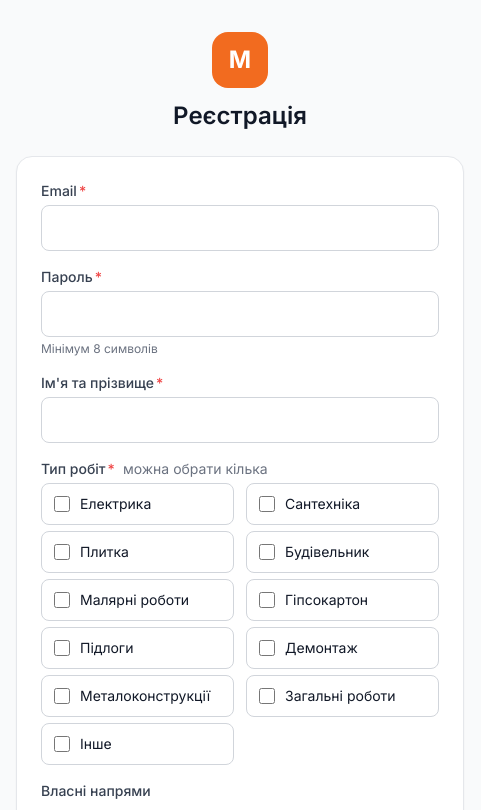
it: RegisterPage — custom trade › blocks submit when neither a system trade nor a custom trade is chosen
This screenshot has width=481, height=810.
In the field with id "email": (240, 228) [41,205,439,251], type "a@b.com"
In the password field labelled "Пароль* Мінімум 8 символів": (240, 314) [41,291,439,337], type "Sup3rPass!"
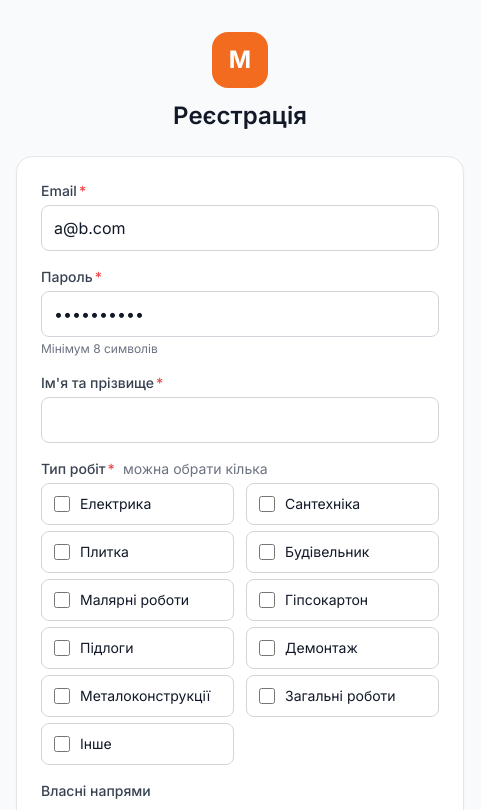
In the field with id "fullName": (240, 420) [41,397,439,443], type "Іван"
(page scrolled)
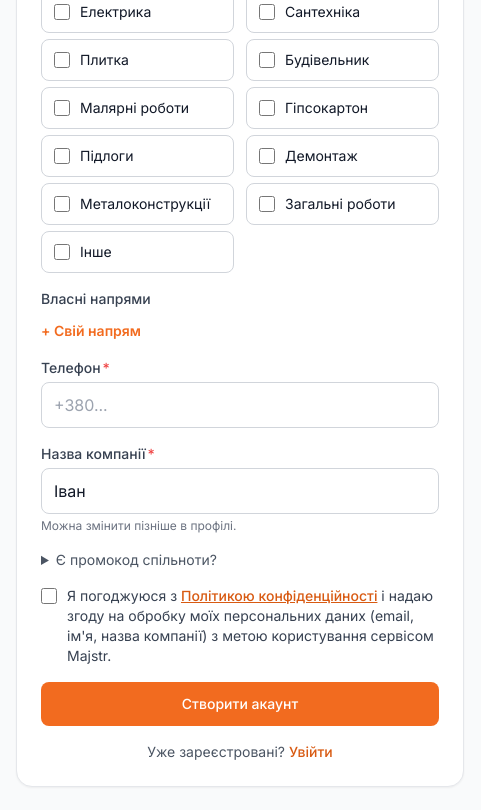
In the field labelled "Телефон*": (240, 405) [41,382,439,428], type "+380501112233"
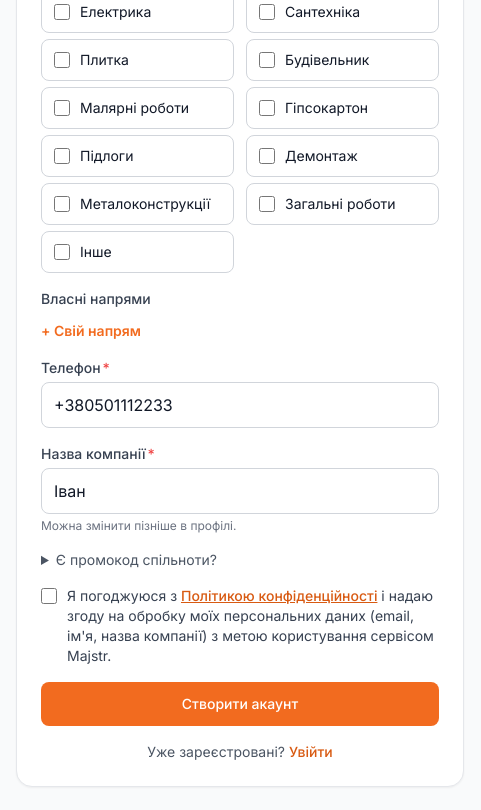
Replace the text in the field with id "companyName" with "ФОП": (240, 491) [41,468,439,514]
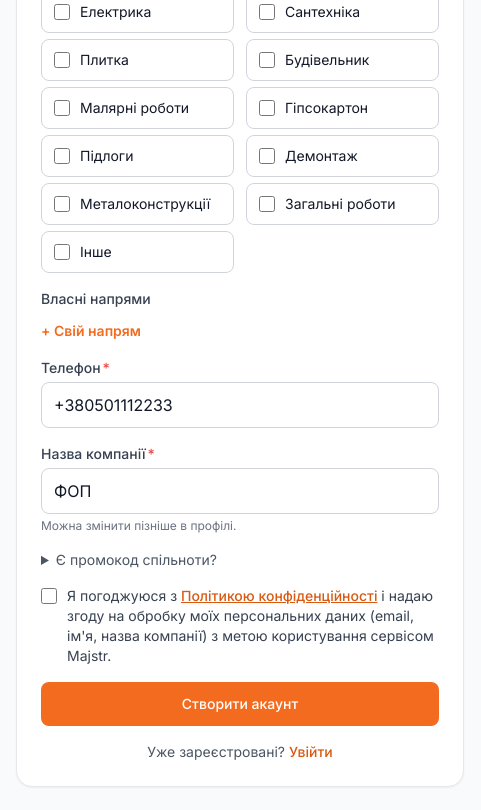
Click the checkbox named "consent": (49, 596) [41,588,57,604]
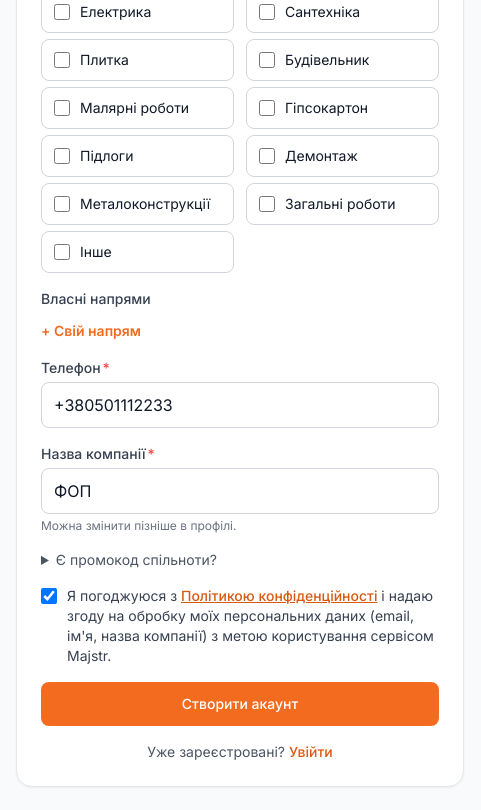
Click the button "Створити акаунт": (240, 704) [41,682,439,726]
(page scrolled)
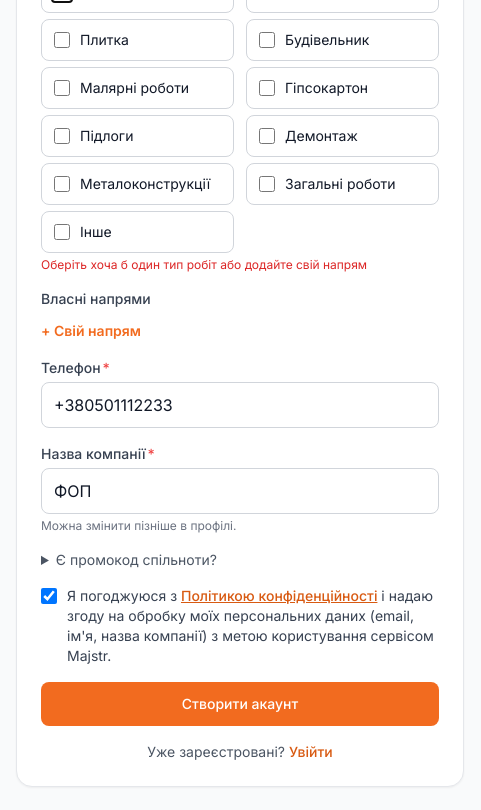
Check: the text "Оберіть хоча б один тип робіт або додайте свій напрям" is shown, box [41,257,367,272]
